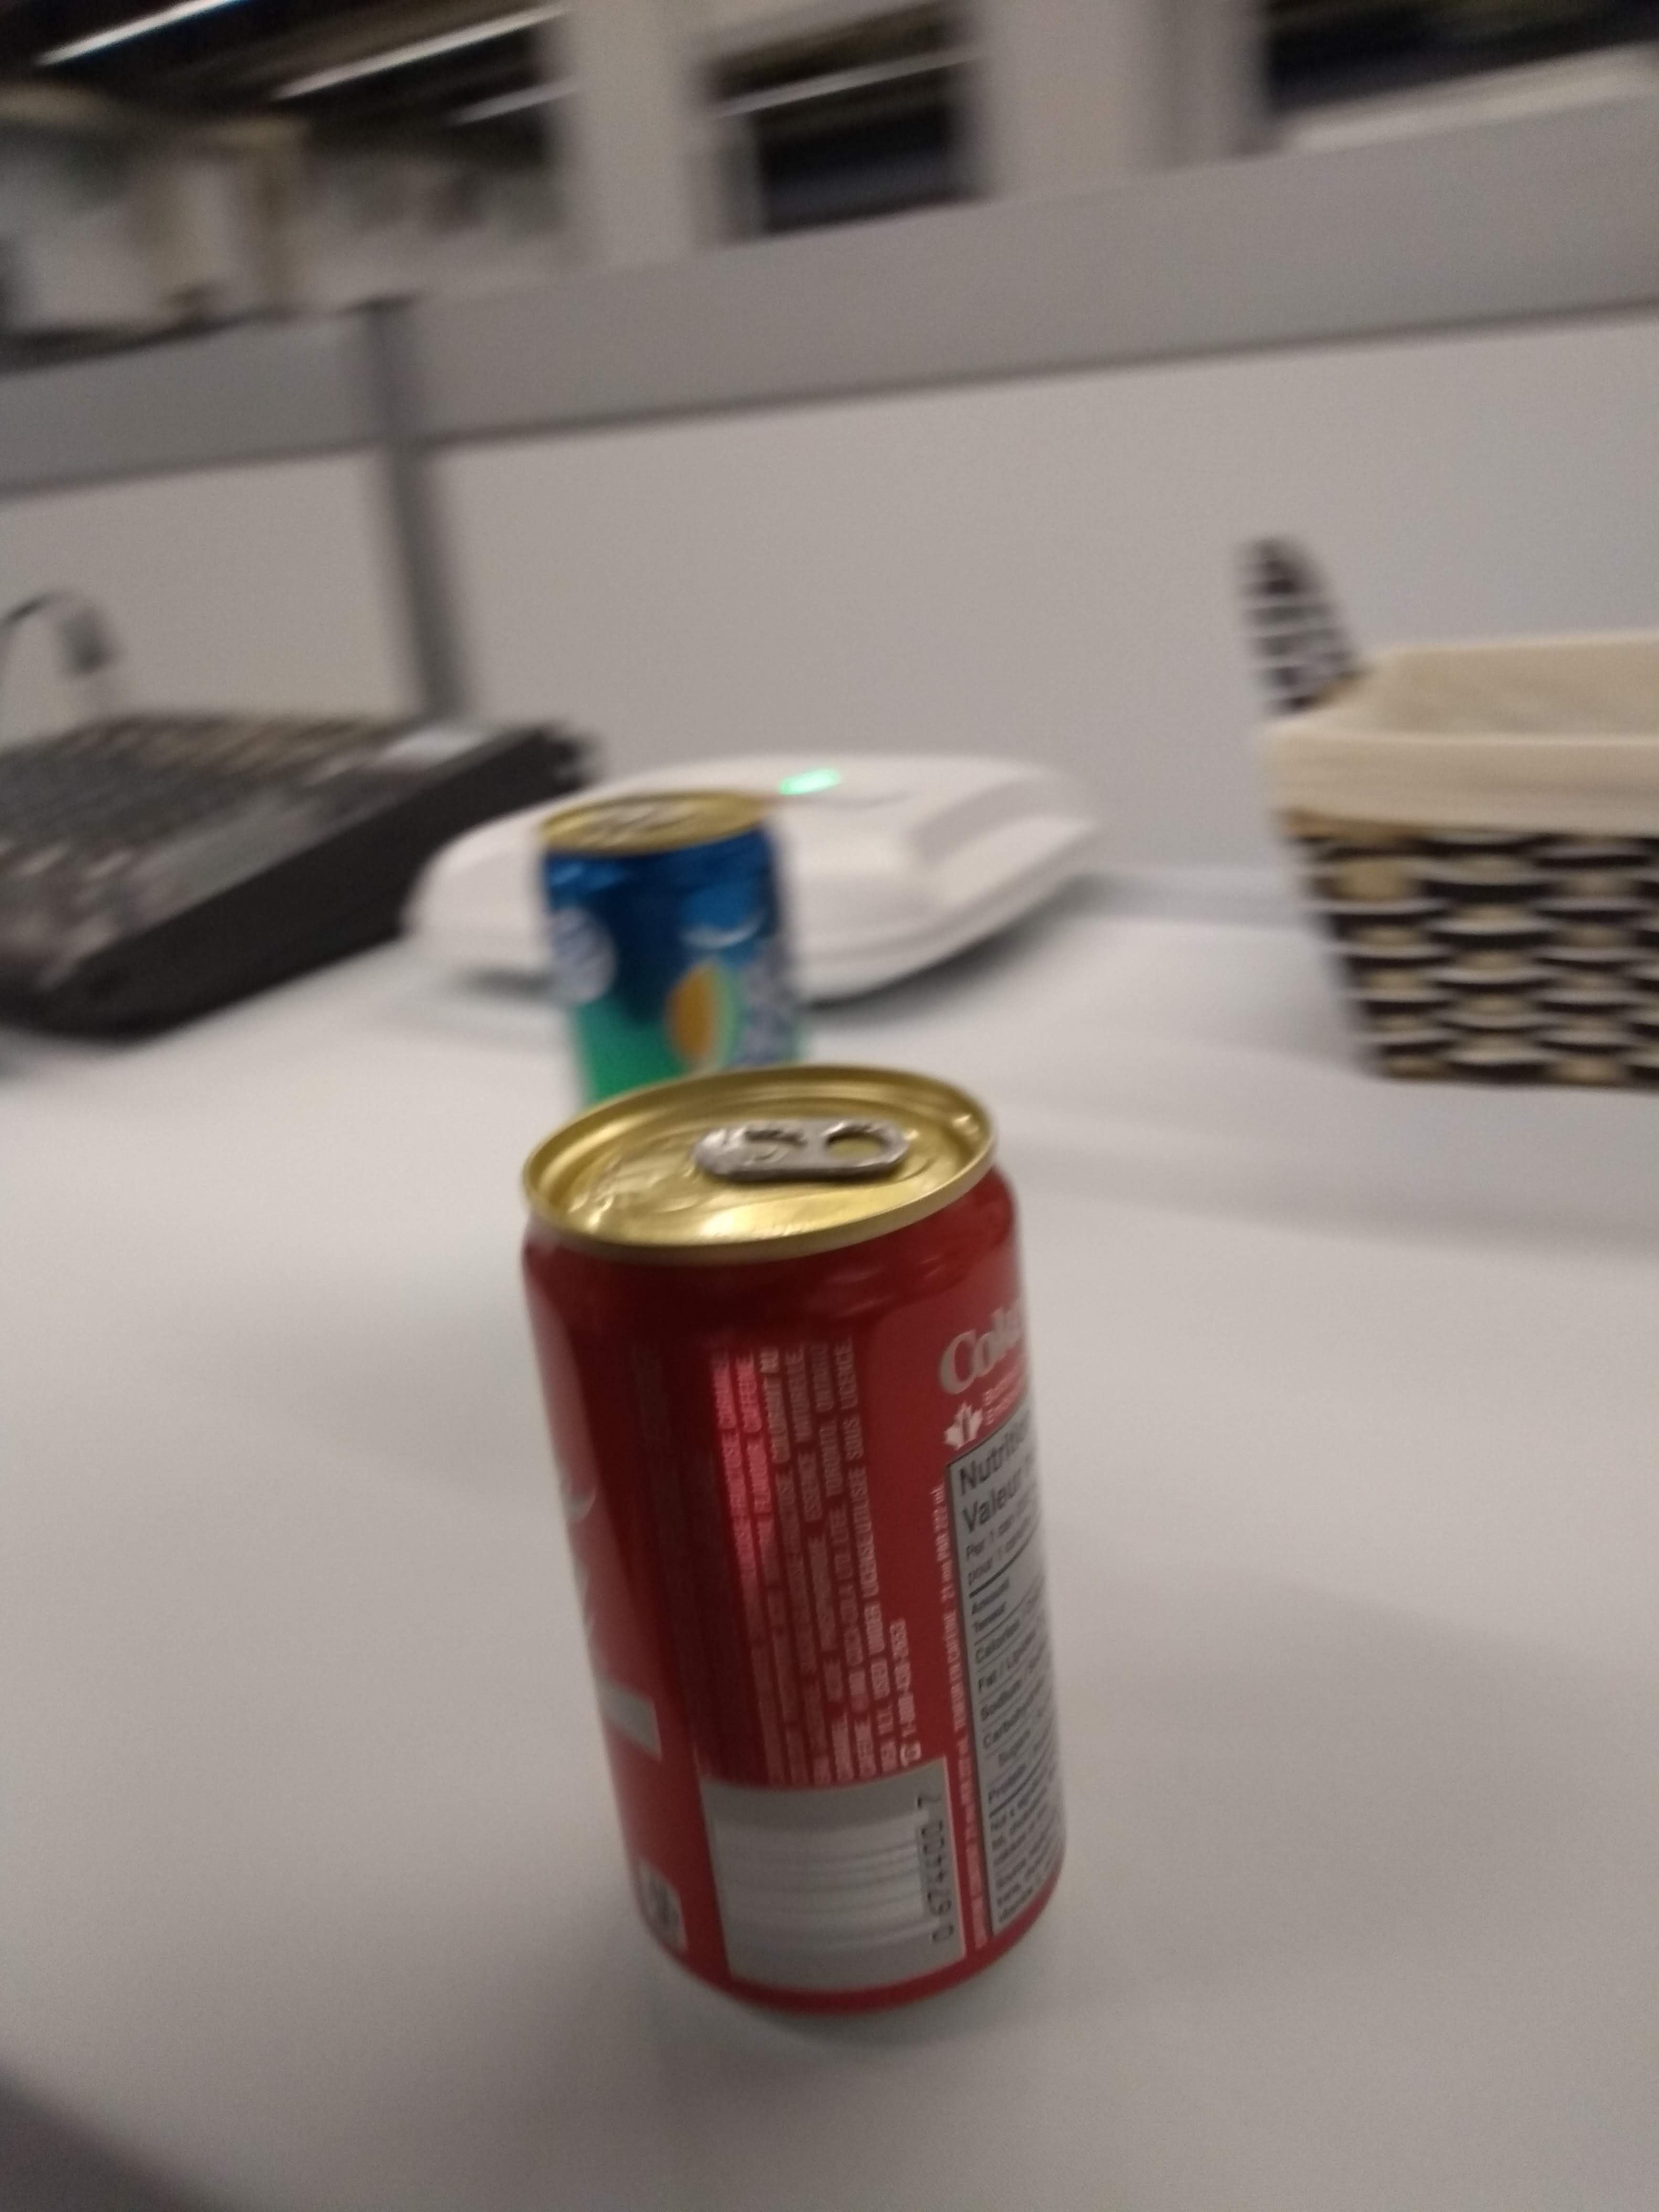coke: (507, 1040, 1103, 2066)
